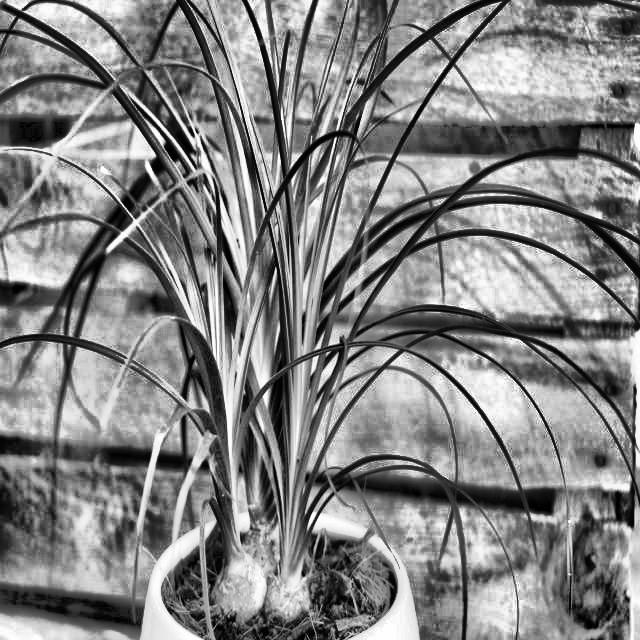plants: (66, 0, 498, 639)
